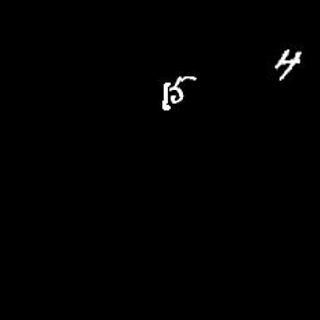five: (169, 71, 198, 105)
four: (272, 47, 304, 82)
one: (161, 80, 171, 110)
